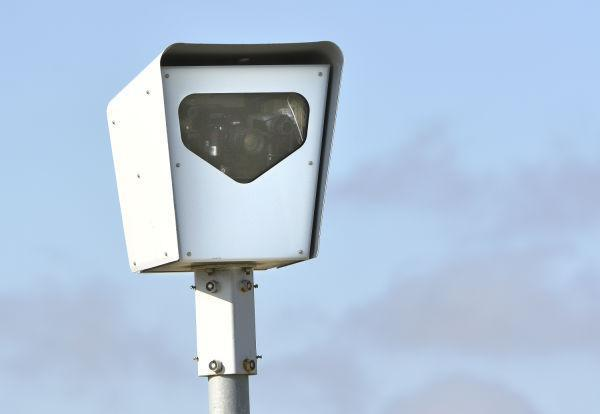Monitor: (105, 39, 344, 274)
